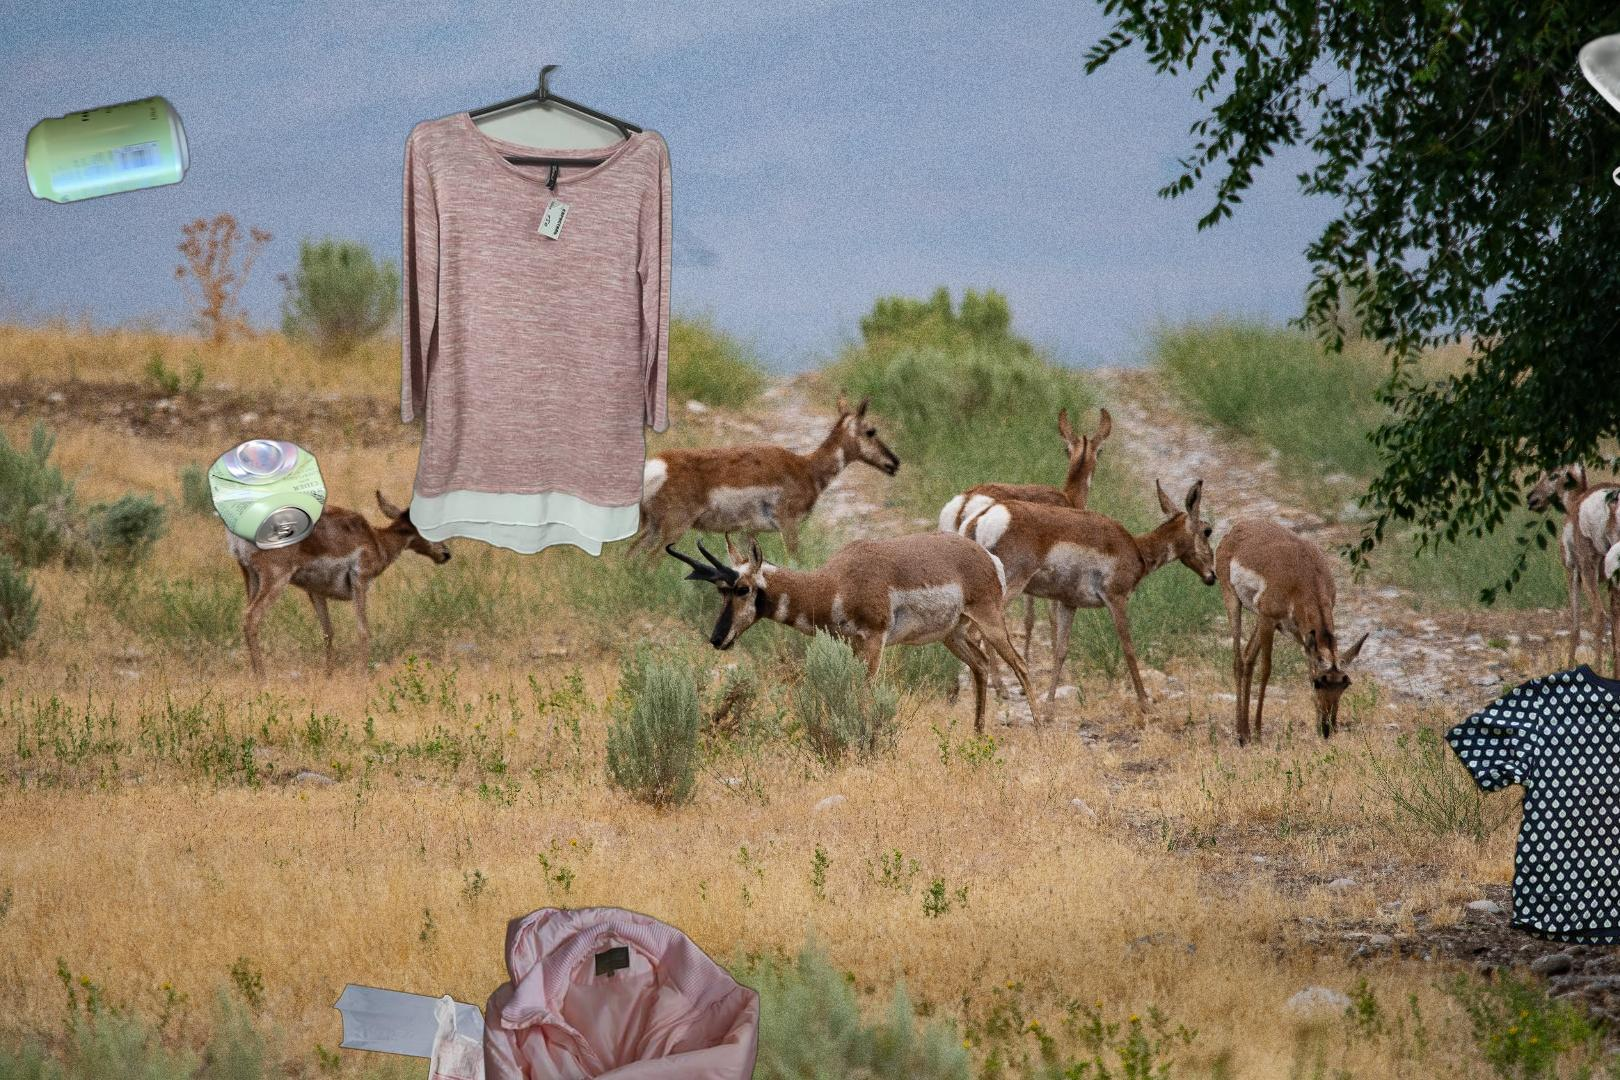clothes: (398, 65, 676, 560), (1437, 655, 1620, 949), (480, 900, 763, 1080)
metal-cans: (204, 432, 460, 896), (19, 90, 194, 210)
plastic-bag: (331, 984, 507, 1080), (438, 429, 539, 545)
trash: (1571, 8, 1620, 221)
